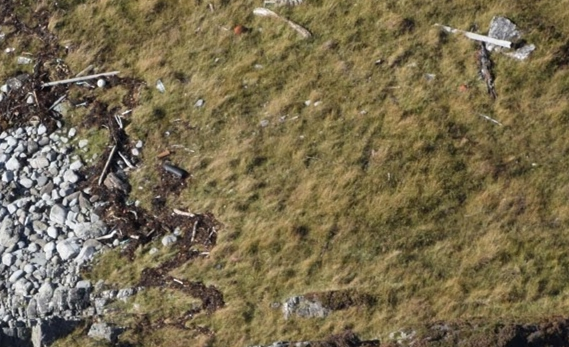straight_bar: (431, 17, 515, 51), (38, 66, 123, 91)
together_barrel: (94, 111, 200, 243)
white_in_green: (219, 10, 258, 46), (446, 70, 479, 103)
